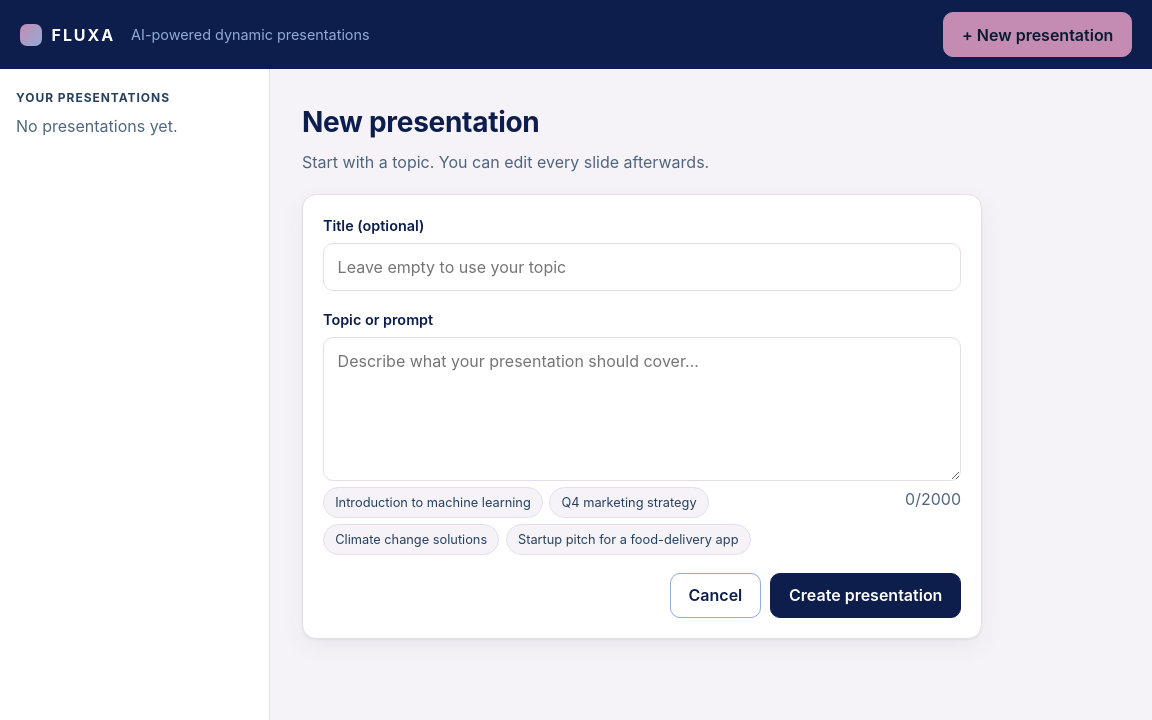
Test: shows a validation error when title and prompt are both empty
Step 1. Click the button "Create presentation" → (866, 596), box [770,573,961,618]
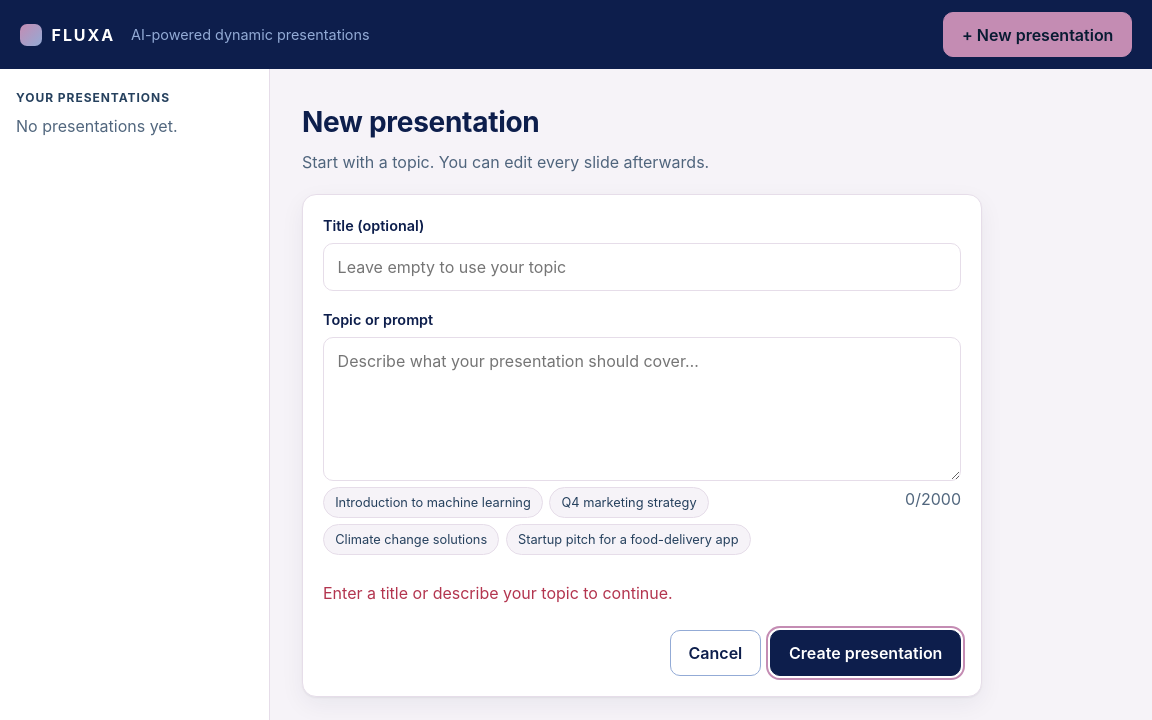
Check: the message shows "Enter a title or describe your topic", box [323,583,673,603]
